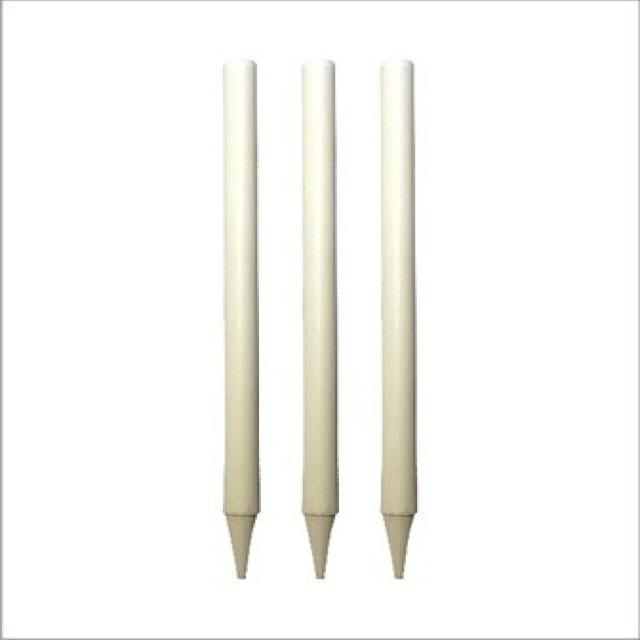stump: (222, 59, 420, 576)
